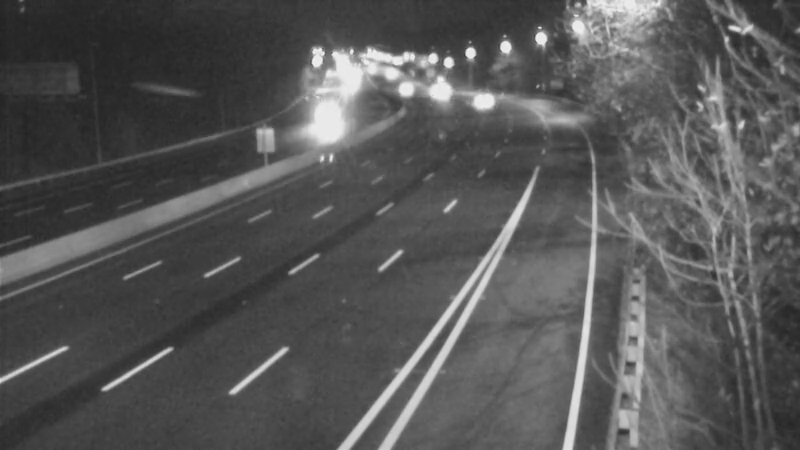vehicle: (376, 63, 426, 113), (411, 67, 461, 117), (460, 74, 510, 124), (301, 96, 351, 146)
